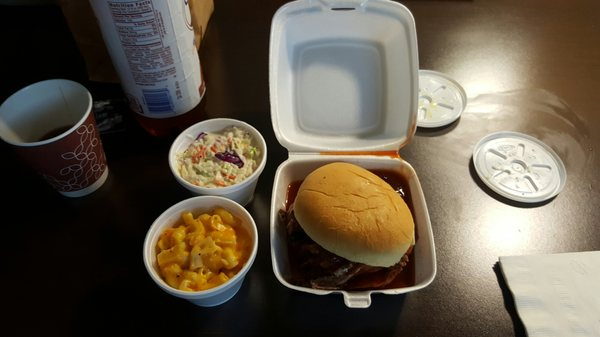sandwich: (493, 260, 529, 336)
sushi: (269, 155, 440, 297), (142, 196, 257, 306), (168, 117, 267, 206)
